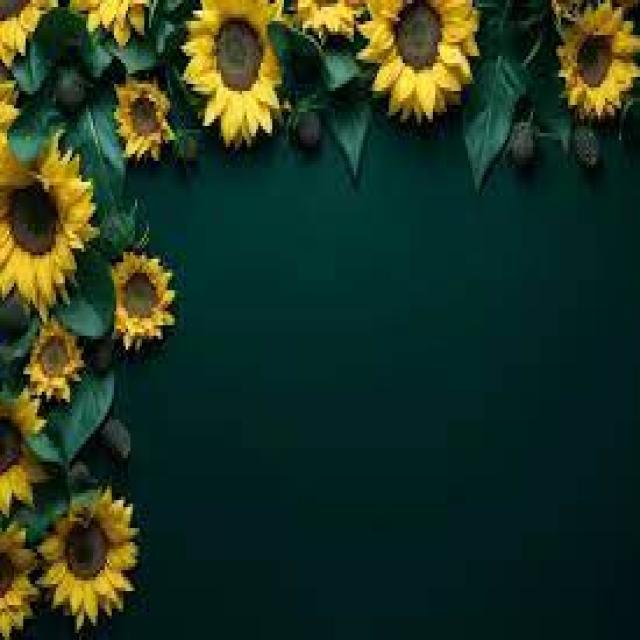sunflower: (0, 77, 98, 322), (35, 482, 140, 630), (179, 0, 284, 147), (355, 0, 479, 122), (554, 0, 640, 122), (110, 248, 174, 349), (0, 384, 47, 514), (112, 73, 172, 161), (28, 314, 84, 402), (0, 518, 37, 636), (0, 0, 58, 66), (69, 0, 146, 45), (295, 0, 356, 38)
